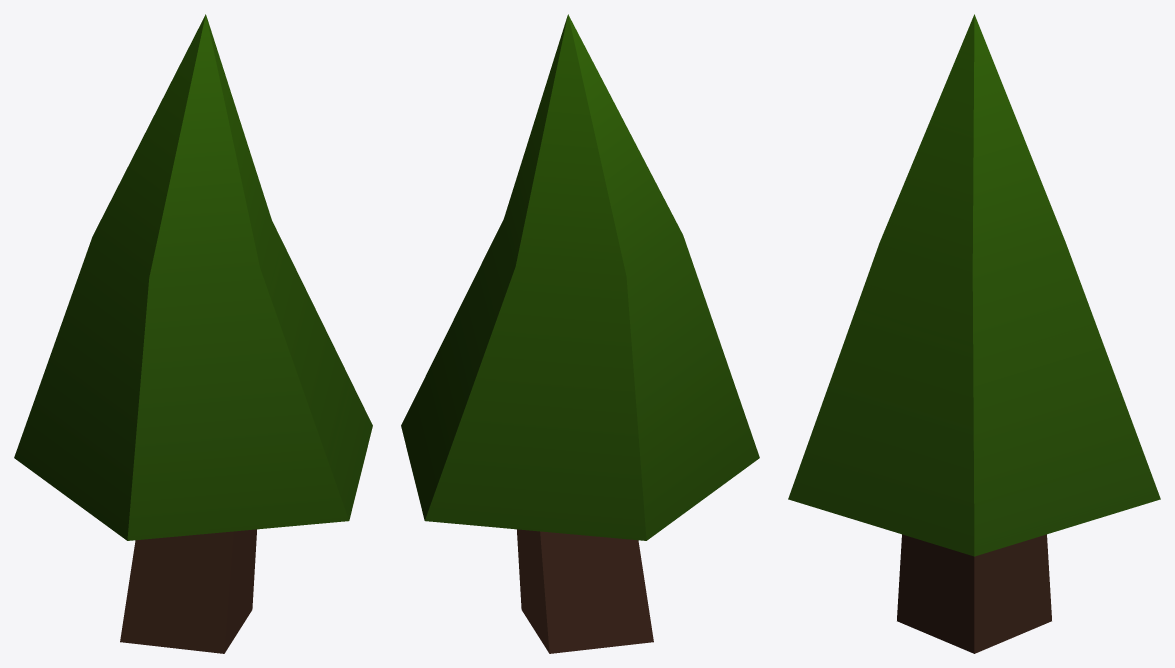
The model's file is Env_Tree.FBX.
3 views of the same model, side by side, from view 1: azimuth 30°, elevation 25°; view 2: azimuth 150°, elevation 25°; view 3: azimuth 270°, elevation 25° (orthographic).
Visible parts, largest first — view 1: Env_Tree; view 2: Env_Tree; view 3: Env_Tree.
Boxes of the visible parts, bbox=[...] form: Env_Tree: bbox=[14, 14, 372, 653]; Env_Tree: bbox=[401, 14, 759, 653]; Env_Tree: bbox=[788, 14, 1160, 653].
Bounding box in the file's own units: 129 × 247 × 135.
